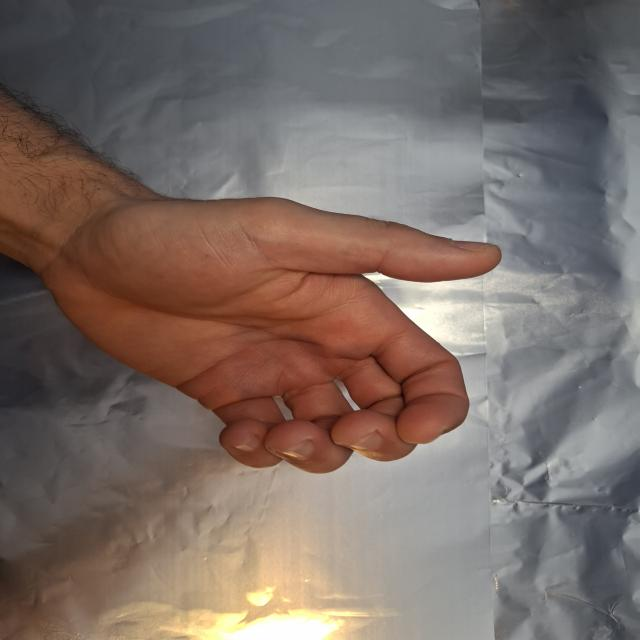glove_off: (31, 174, 504, 476)
